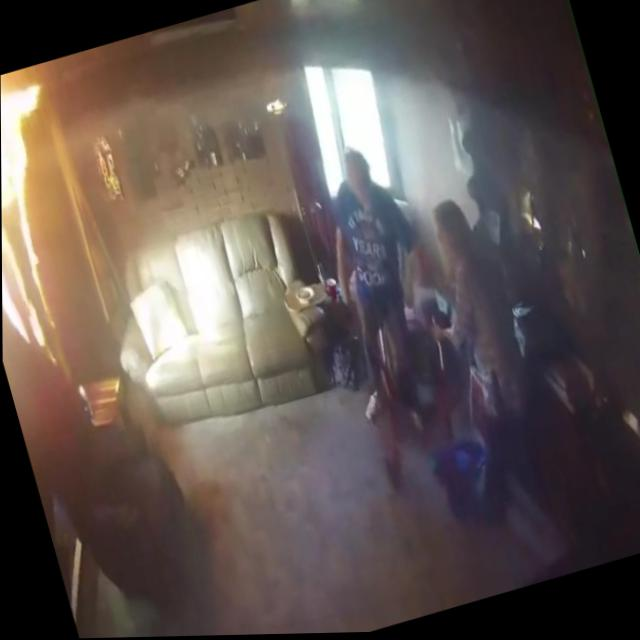fire: (0, 72, 111, 375)
